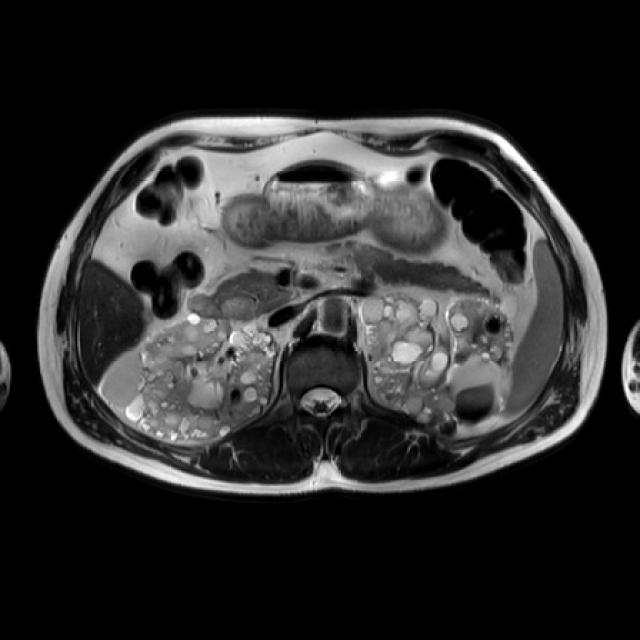sag: (105, 314, 277, 439)
sol: (363, 292, 519, 435)
